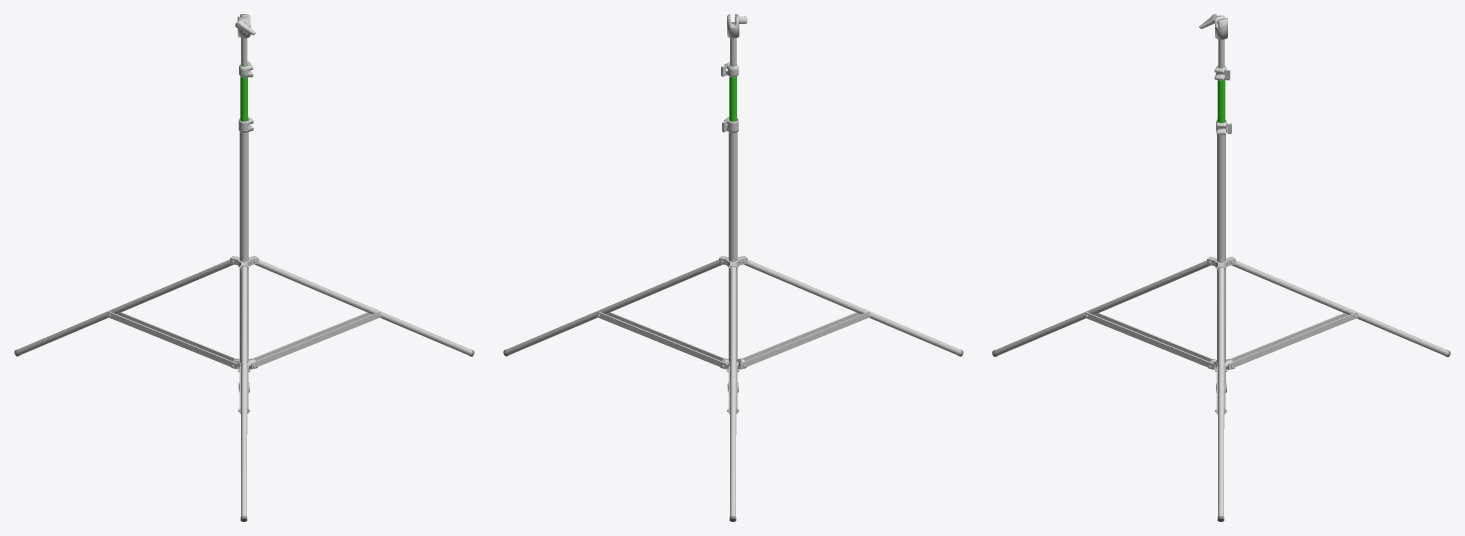
File: Stativ.fbx
3 renders of one model, left to right at view 1: azimuth 30°, elevation 25°; view 2: azimuth 150°, elevation 25°; view 3: azimuth 270°, elevation 25°, orthographic.
Visible parts, largest first — view 1: Foot.002, Stativ, Upper.002; view 2: Foot.002, Stativ, Upper.002; view 3: Foot.002, Stativ, Upper.002.
Part boxes in pixels (x1,y1,x2,y2): Foot.002: (14, 255, 474, 521); Stativ: (238, 116, 253, 392); Upper.002: (235, 14, 255, 121); Foot.002: (503, 255, 963, 521); Stativ: (722, 117, 738, 392); Upper.002: (721, 14, 747, 121); Foot.002: (992, 256, 1450, 521); Stativ: (1216, 119, 1231, 392); Upper.002: (1199, 14, 1230, 122).
Bounding box in the file's own units: 133 × 145 × 153.
